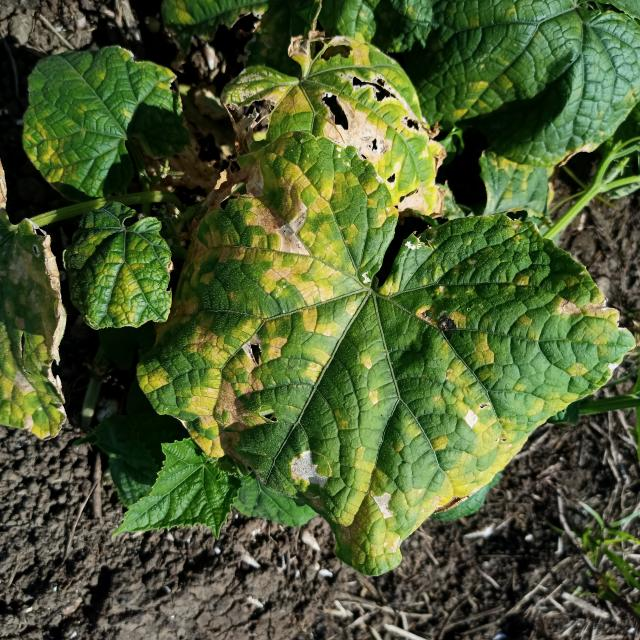disease_cucumber: (162, 55, 602, 573)
